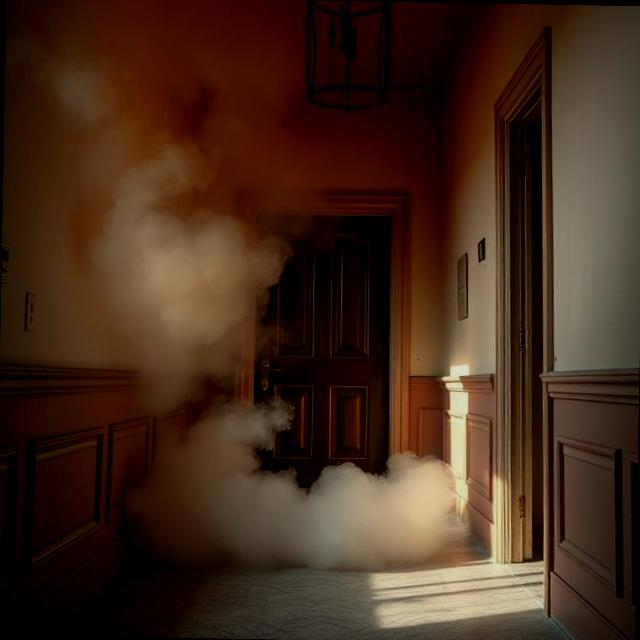smoke: (42, 68, 491, 590)
